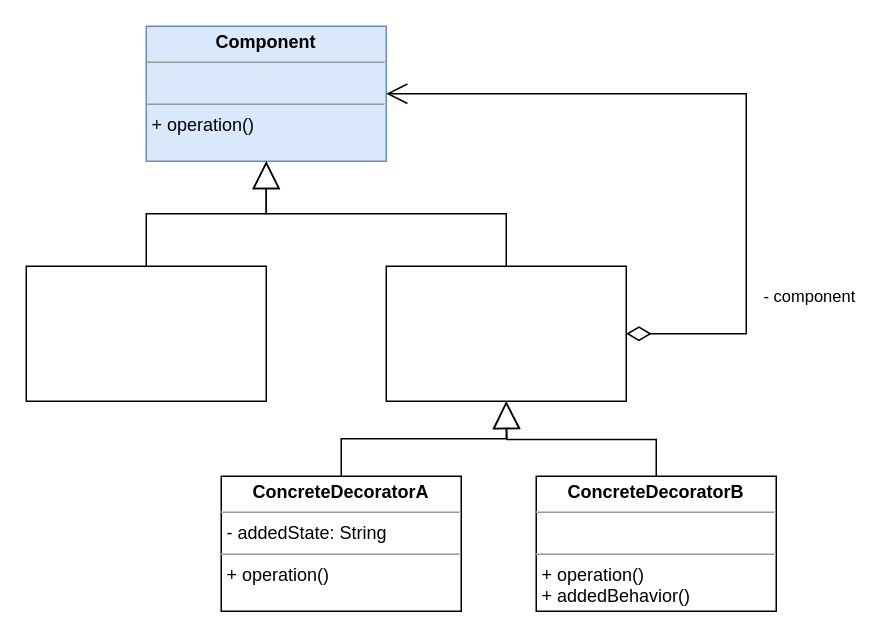
This 882x638 diagram has some shape labels left out. Each missing label, with the centre of its shape:
"ConcreteComponent + operation()" belongs at point 145,333.
"Decorator + operation()" belongs at point 505,333.
